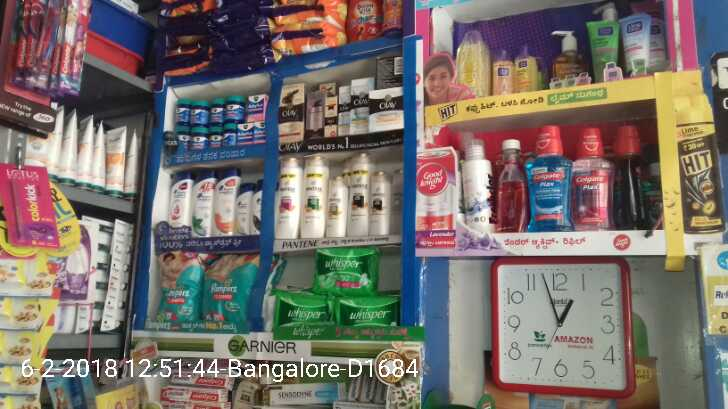beauty: (271, 158, 300, 240), (299, 155, 324, 240), (346, 152, 369, 234), (366, 172, 394, 236), (367, 87, 406, 132), (190, 170, 213, 237), (277, 88, 306, 140), (326, 170, 347, 239), (212, 170, 232, 240), (171, 170, 189, 233), (231, 183, 252, 234)
pharmacy: (147, 249, 203, 322), (304, 249, 384, 297), (200, 258, 259, 322), (267, 290, 331, 333), (333, 296, 398, 331), (188, 101, 209, 126), (245, 94, 263, 122), (224, 97, 242, 124), (188, 131, 207, 154), (235, 122, 252, 144), (207, 103, 224, 124), (221, 131, 237, 149), (207, 129, 221, 147)
